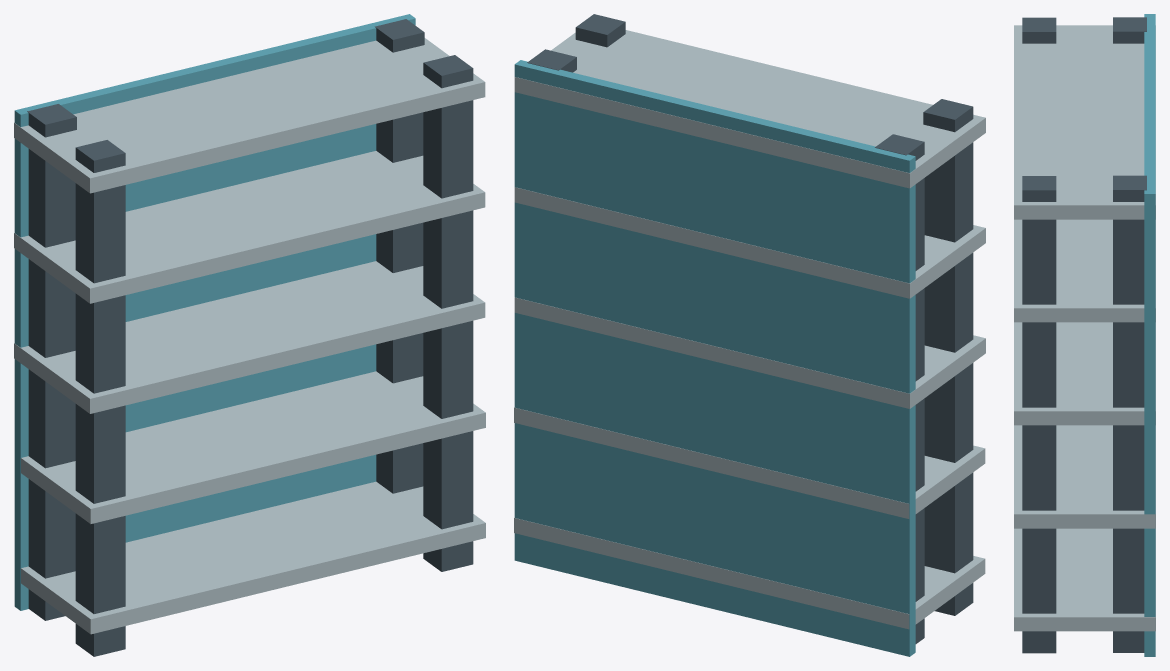
The model's file is small-parts-shelving.glb.
The picture shows the model from 3 angles, left to right: view 1: azimuth 30°, elevation 25°; view 2: azimuth 150°, elevation 25°; view 3: azimuth 270°, elevation 25°; orthographic projection. The views are drawn at different scales.
Parts seen in each view (by area): view 1: steel, dark, blue; view 2: blue, steel, dark; view 3: steel, dark, blue.
Part boxes in pixels (x1,y1,x2,y2): steel: [14, 38, 485, 634]; dark: [27, 19, 473, 656]; blue: [14, 14, 415, 610]; blue: [514, 60, 915, 656]; steel: [514, 30, 985, 629]; dark: [527, 14, 973, 643]; steel: [1014, 25, 1155, 631]; dark: [1022, 17, 1146, 653]; blue: [1144, 14, 1155, 656].
Bounding box in the file's own units: 1.5 × 1.8 × 0.5001.
